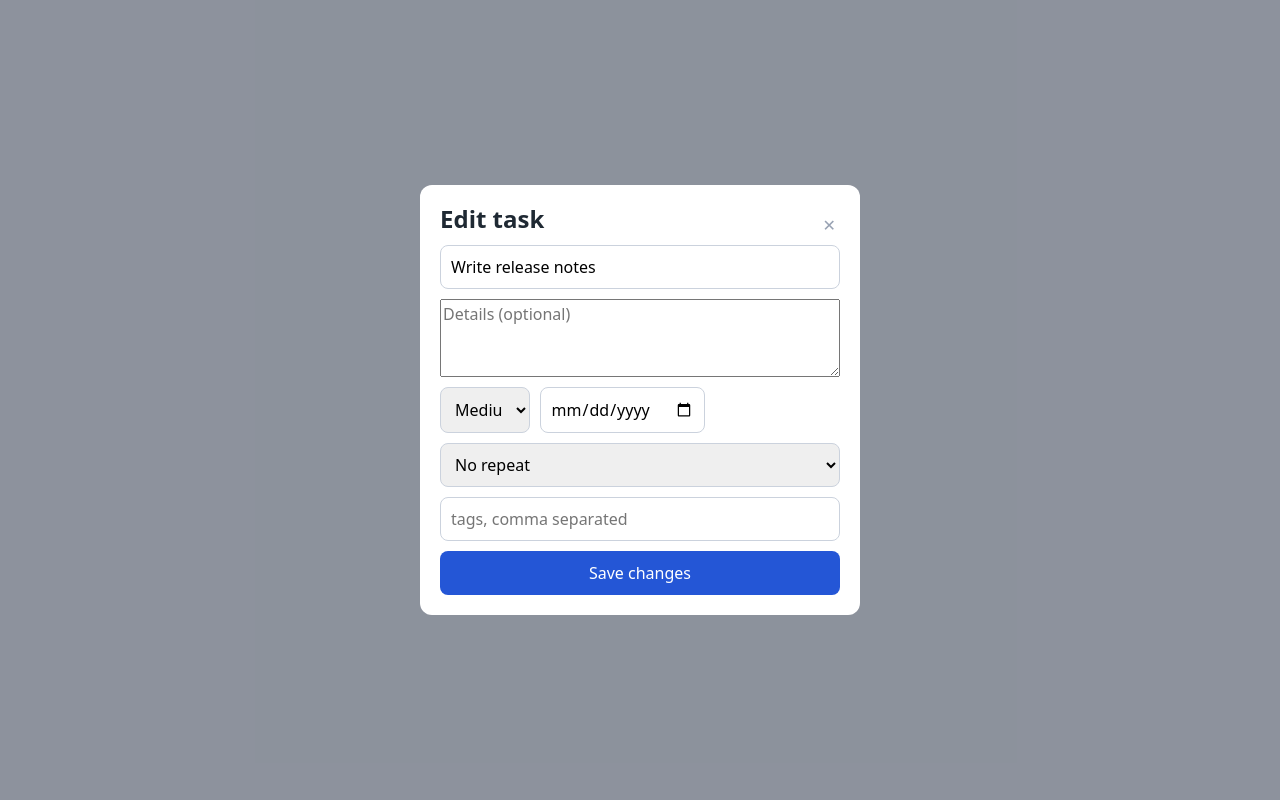
it: TaskList › blocks empty titles in the edit dialog
The width and height of the screenshot is (1280, 800).
Clear the field named "task title" at [640, 267], box [440, 245, 840, 289]
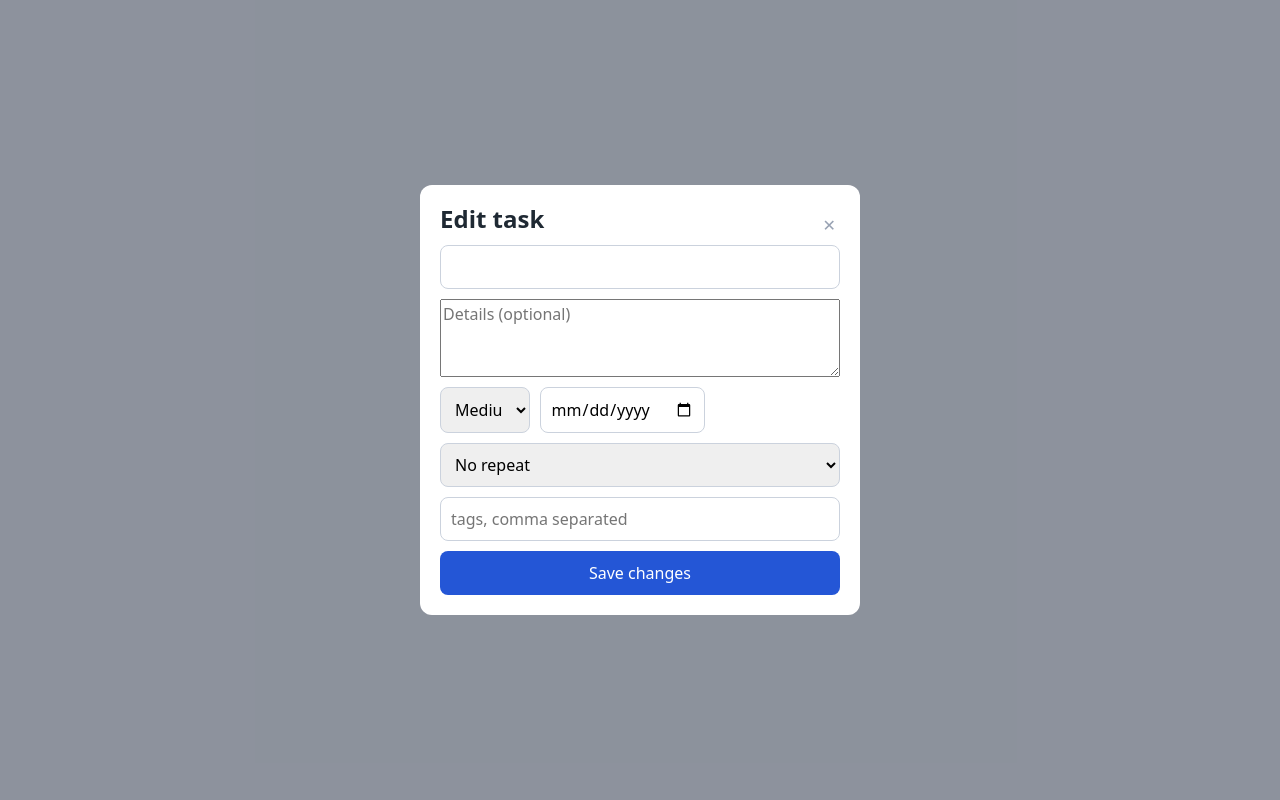
Click the button "Save changes".
click(640, 573)  # box [440, 551, 840, 595]
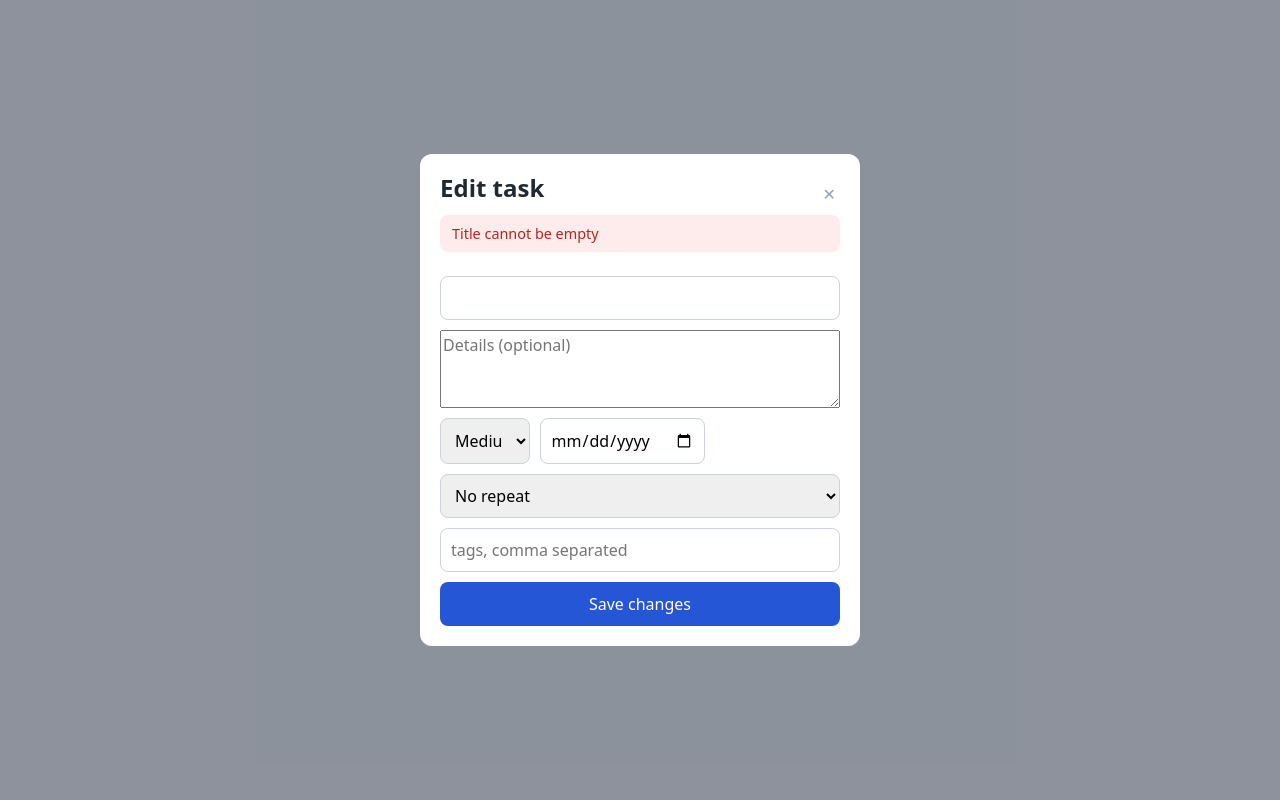
Expected: the text "Title cannot be empty" is shown, [440, 215, 840, 252]
